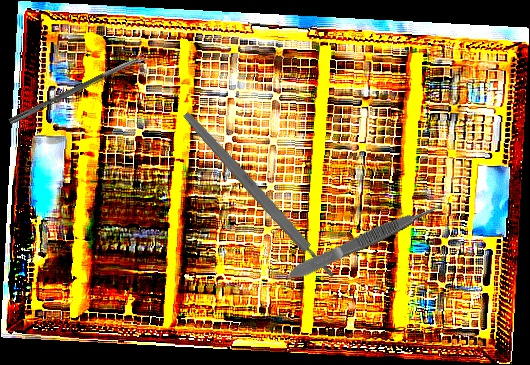Scalpel Handle: (180, 109, 338, 282)
Surgical Spoon: (8, 53, 147, 126)
Tissue Forceps: (286, 200, 443, 283)
